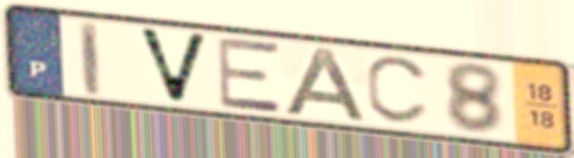8: (441, 59, 508, 138)
A: (280, 44, 373, 125)
C: (362, 54, 434, 128)
E: (214, 36, 287, 115)
I: (76, 18, 105, 99)
V: (133, 24, 213, 108)
